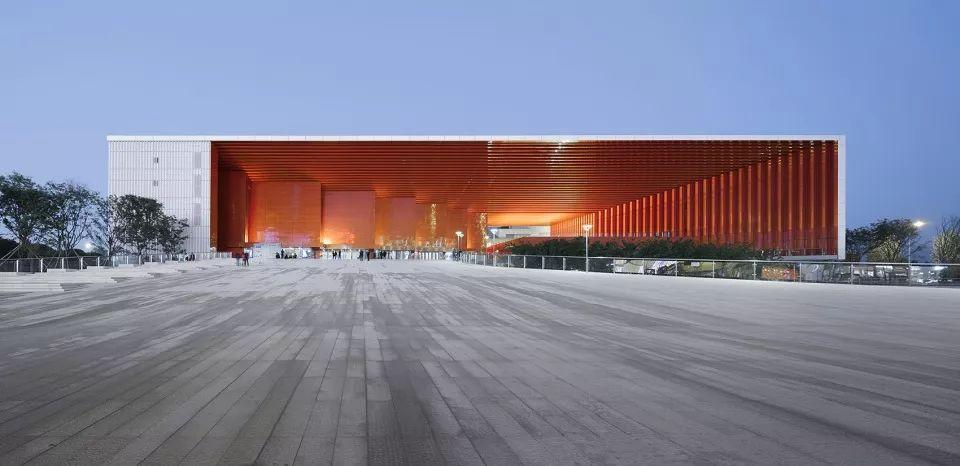buildings: (80, 125, 853, 262)
